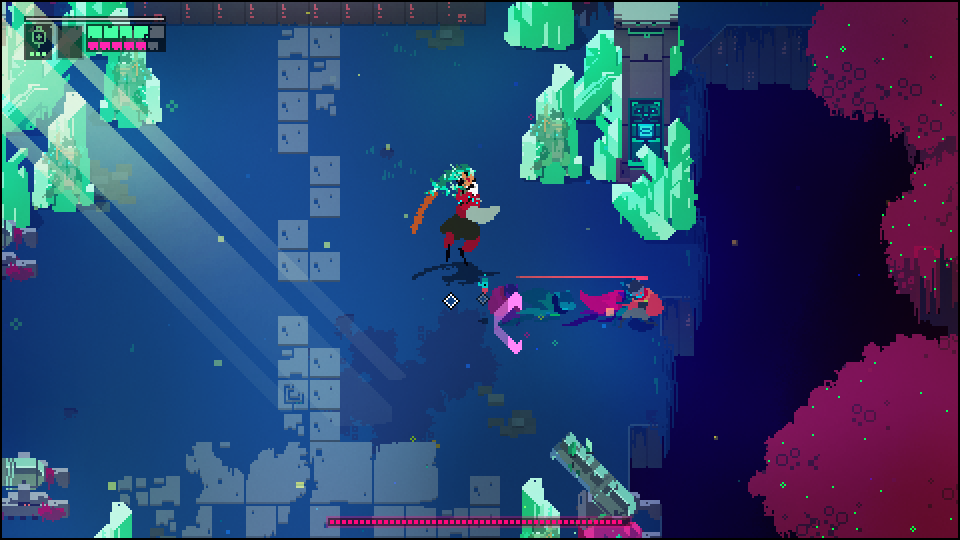hanged_man: (417, 161, 498, 267)
player: (602, 275, 663, 327)
